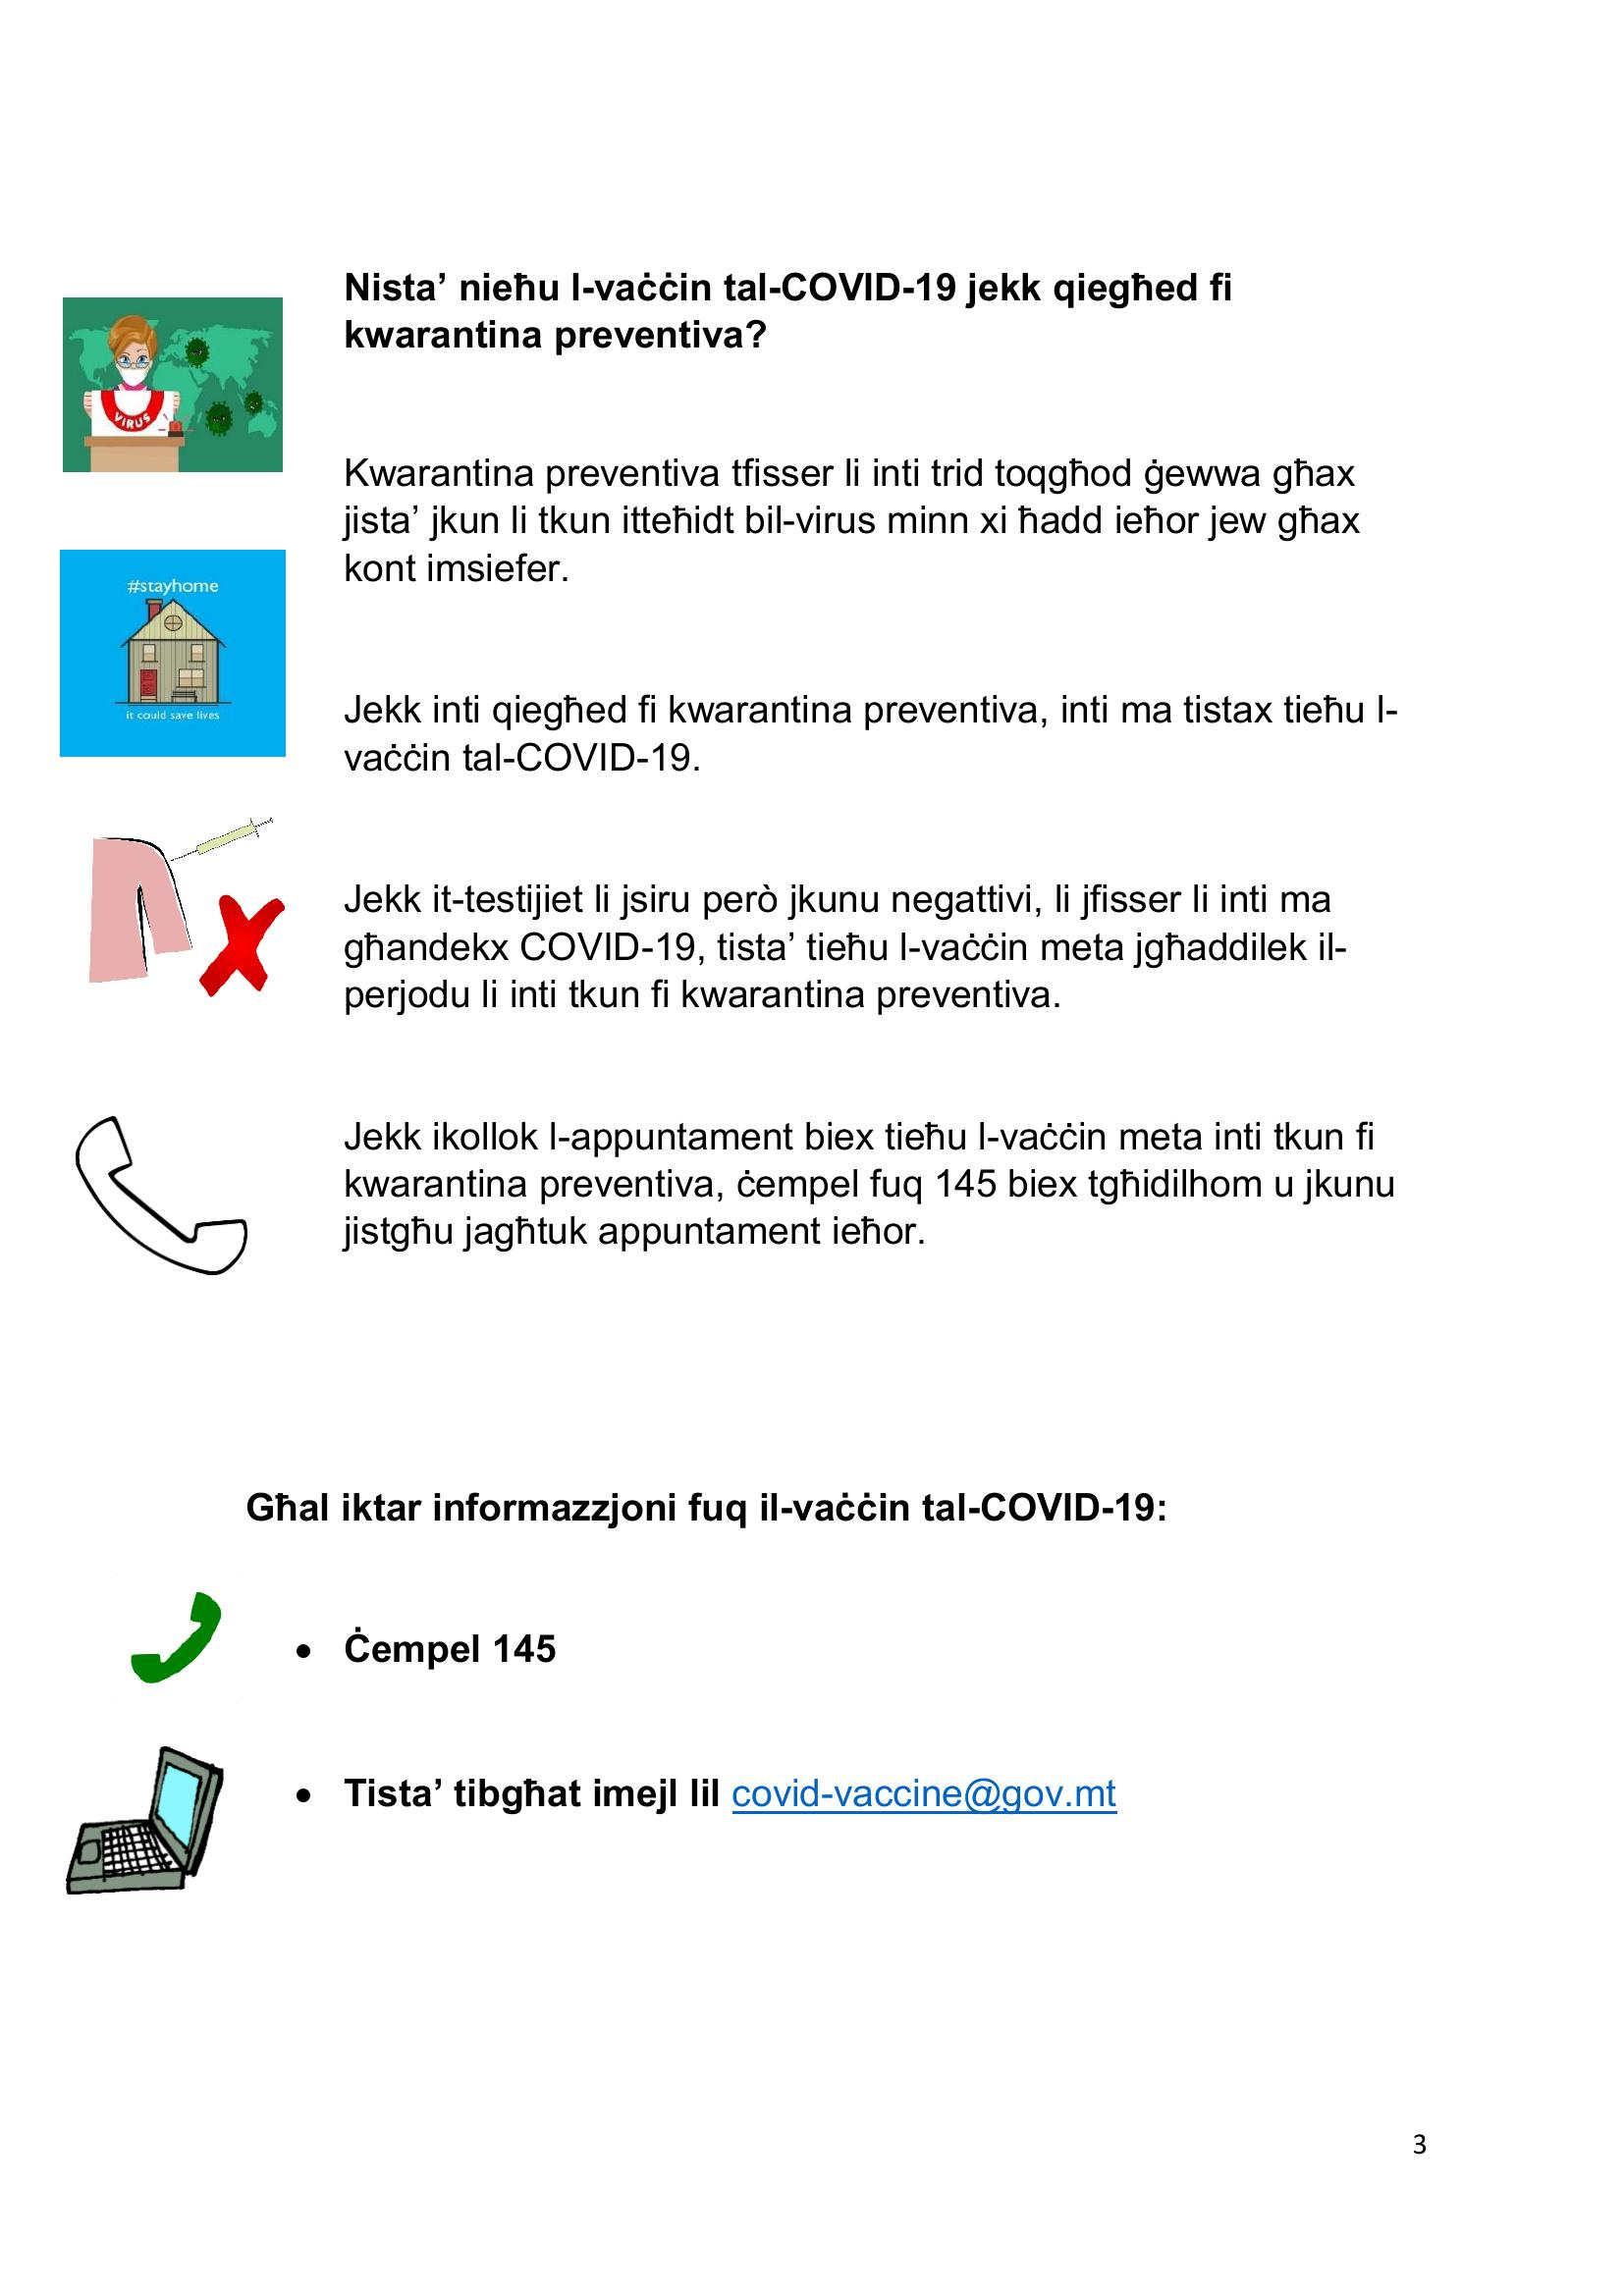text: (315, 242, 1432, 1296), (237, 1472, 1181, 1846)
